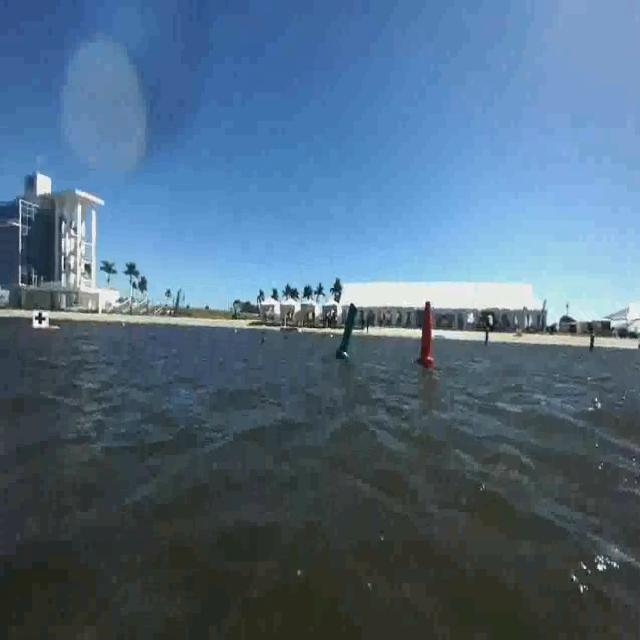green-column-buoy: (337, 303, 361, 362)
red-column-buoy: (416, 300, 437, 369)
